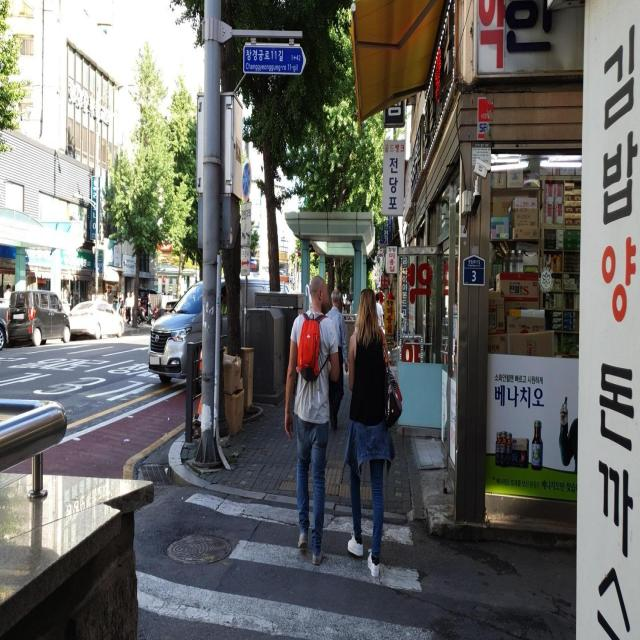횡단보도: (133, 490, 436, 640)
